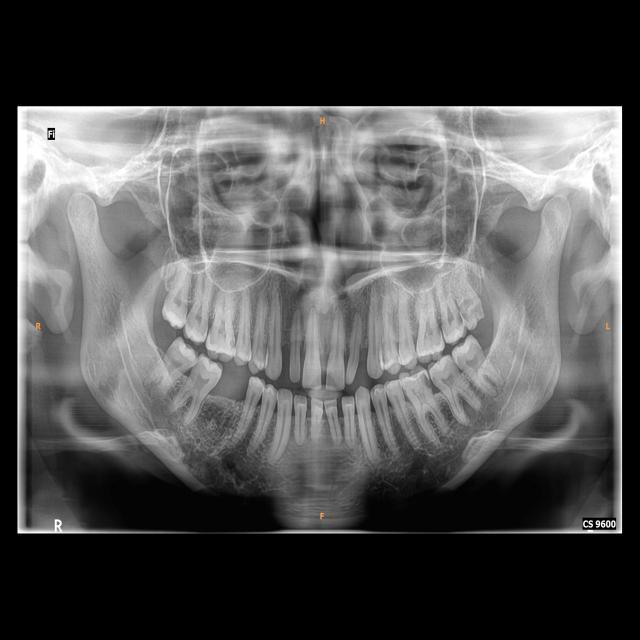dentin-curugu: (454, 284, 489, 332), (418, 365, 439, 397)
